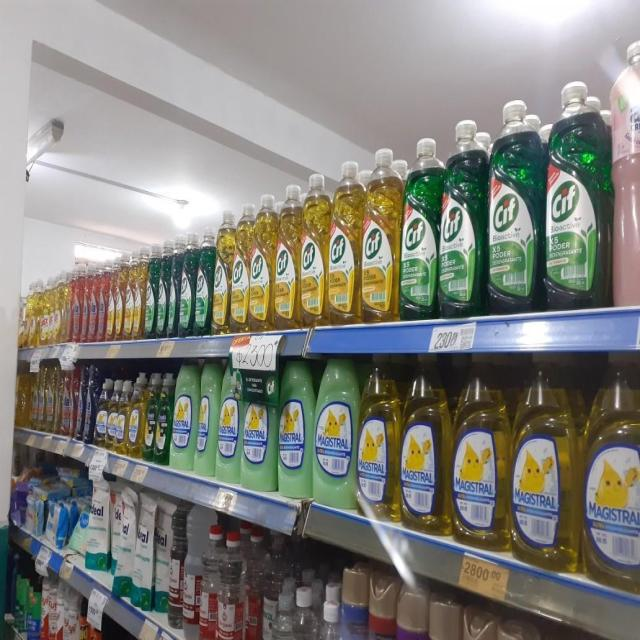ala_conc_amarillo: (46, 358, 55, 434), (38, 360, 46, 432), (30, 361, 38, 431)
ala_conc_rojo: (61, 361, 74, 438), (72, 253, 81, 343), (89, 253, 98, 343), (75, 363, 84, 442), (98, 255, 106, 343), (82, 252, 89, 342)
cif_conc_bot_amarilla: (362, 147, 398, 324), (328, 160, 360, 326), (300, 172, 327, 327), (274, 184, 300, 330), (250, 192, 273, 332), (231, 203, 250, 333), (212, 208, 230, 334), (133, 246, 144, 341), (124, 249, 134, 341), (115, 253, 124, 342), (106, 254, 115, 342)
cif_conc_botella_verde: (544, 78, 608, 311), (487, 96, 541, 315), (439, 118, 484, 319), (400, 136, 438, 321), (195, 228, 212, 336), (179, 232, 194, 336), (144, 244, 156, 340), (168, 239, 178, 338), (157, 242, 167, 338)
magistral_con_amarillo: (512, 361, 578, 572), (582, 358, 640, 590), (452, 359, 510, 552), (401, 355, 450, 535), (358, 357, 399, 522), (128, 372, 144, 458), (116, 378, 128, 455), (95, 377, 108, 448), (107, 378, 118, 452)
magistral_con_crema: (314, 357, 356, 510), (278, 359, 312, 499), (242, 362, 276, 492), (217, 359, 241, 484), (172, 362, 196, 472), (196, 361, 217, 478)
magistral_con_verde: (144, 372, 156, 462)
